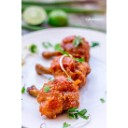chicken_lollipop: (24, 78, 85, 120), (31, 56, 95, 87), (37, 34, 98, 61)
